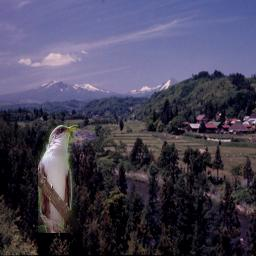Cuckoo: (38, 124, 78, 233)
